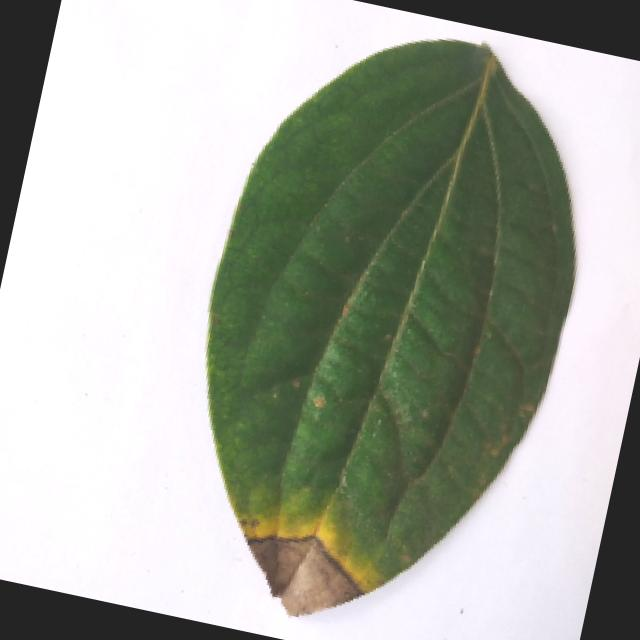footrot: (142, 11, 635, 640)
